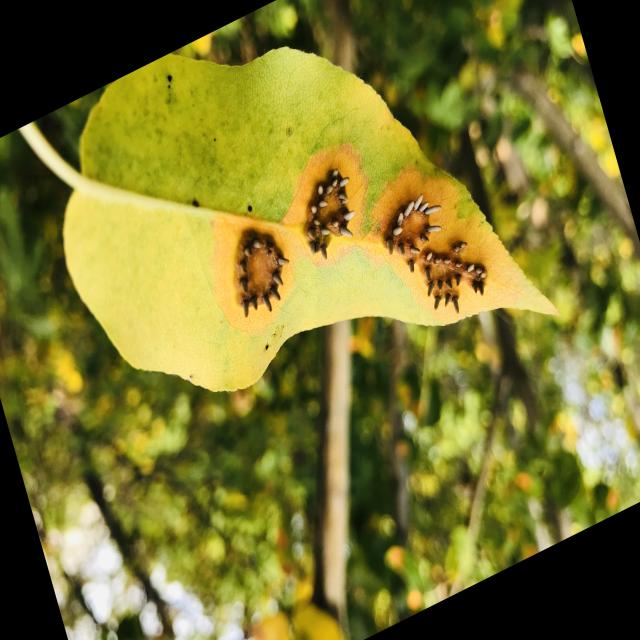Gymnosporangium_Rusts: (204, 120, 502, 351)
